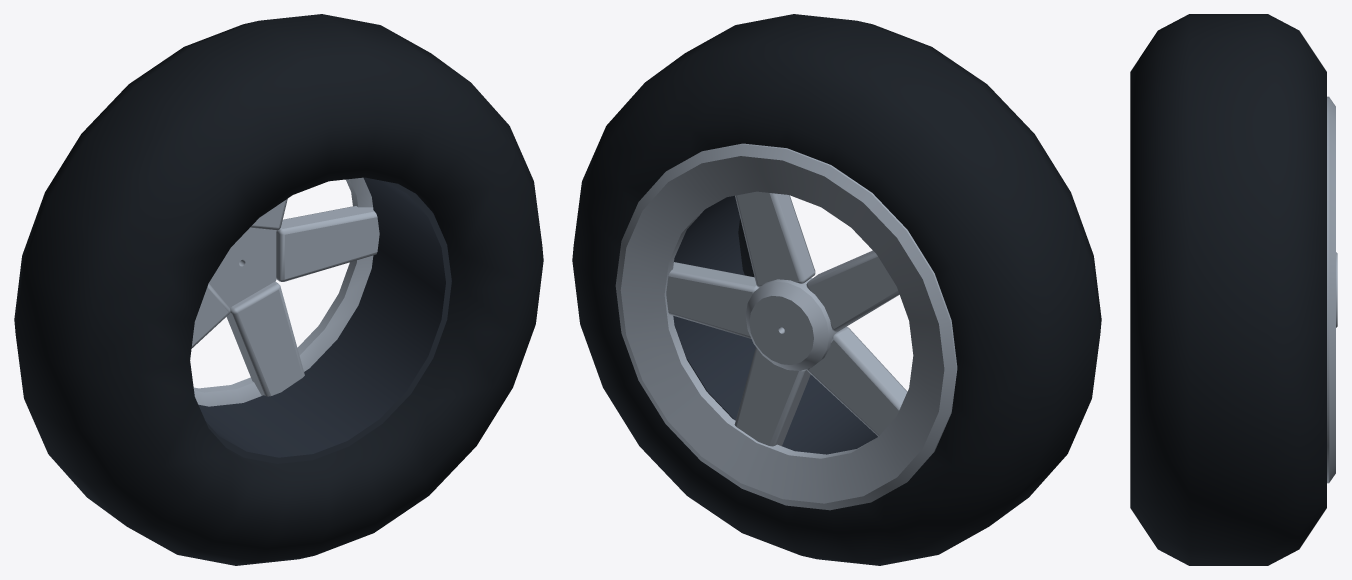
3 renders of one model, left to right at view 1: azimuth 30°, elevation 25°; view 2: azimuth 150°, elevation 25°; view 3: azimuth 270°, elevation 25°, orthographic.
Parts seen in each view (by area): view 1: W04_Tire, W04_Rim_barrel, W04_Five_spoke_0, W04_Five_spoke_4, W04_Rim_outer_lip, W04_Axle_cap, W04_Five_spoke_3; view 2: W04_Tire, W04_Rim_outer_lip, W04_Rim_barrel, W04_Axle_cap, W04_Five_spoke_3, W04_Five_spoke_1, W04_Five_spoke_0, W04_Five_spoke_4, W04_Five_spoke_2; view 3: W04_Tire, W04_Rim_outer_lip.
Part boxes in pixels (x1=…): W04_Tire: x1=14, y1=14, x2=543, y2=565; W04_Rim_barrel: x1=198, y1=177, x2=451, y2=463; W04_Five_spoke_0: x1=276, y1=206, x2=379, y2=281; W04_Five_spoke_4: x1=226, y1=281, x2=304, y2=396; W04_Rim_outer_lip: x1=193, y1=177, x2=373, y2=406; W04_Axle_cap: x1=209, y1=228, x2=276, y2=307; W04_Five_spoke_3: x1=191, y1=283, x2=230, y2=348; W04_Tire: x1=572, y1=14, x2=1101, y2=565; W04_Rim_outer_lip: x1=615, y1=143, x2=957, y2=510; W04_Rim_barrel: x1=673, y1=195, x2=877, y2=454; W04_Axle_cap: x1=745, y1=278, x2=837, y2=370; W04_Five_spoke_3: x1=806, y1=326, x2=907, y2=436; W04_Five_spoke_1: x1=735, y1=191, x2=815, y2=287; W04_Five_spoke_0: x1=666, y1=262, x2=758, y2=338; W04_Five_spoke_4: x1=734, y1=347, x2=810, y2=446; W04_Five_spoke_2: x1=806, y1=250, x2=899, y2=331; W04_Tire: x1=1130, y1=14, x2=1326, y2=565; W04_Rim_outer_lip: x1=1327, y1=96, x2=1335, y2=483.
Bounding box in the file's own units: 3.1 × 3.1 × 1.16.
